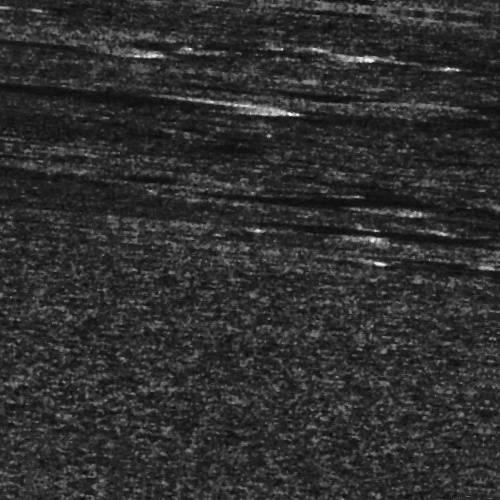object: (261, 38, 396, 55), (201, 99, 316, 114), (347, 83, 462, 92), (353, 191, 446, 200), (71, 58, 164, 65), (451, 213, 500, 226), (352, 0, 435, 6), (357, 249, 388, 252), (471, 242, 500, 245)
shadow: (0, 99, 258, 114), (126, 38, 328, 55), (266, 213, 500, 226), (262, 191, 399, 200), (0, 58, 117, 65), (336, 83, 404, 92), (327, 0, 393, 6), (298, 249, 372, 252), (420, 242, 491, 245)
